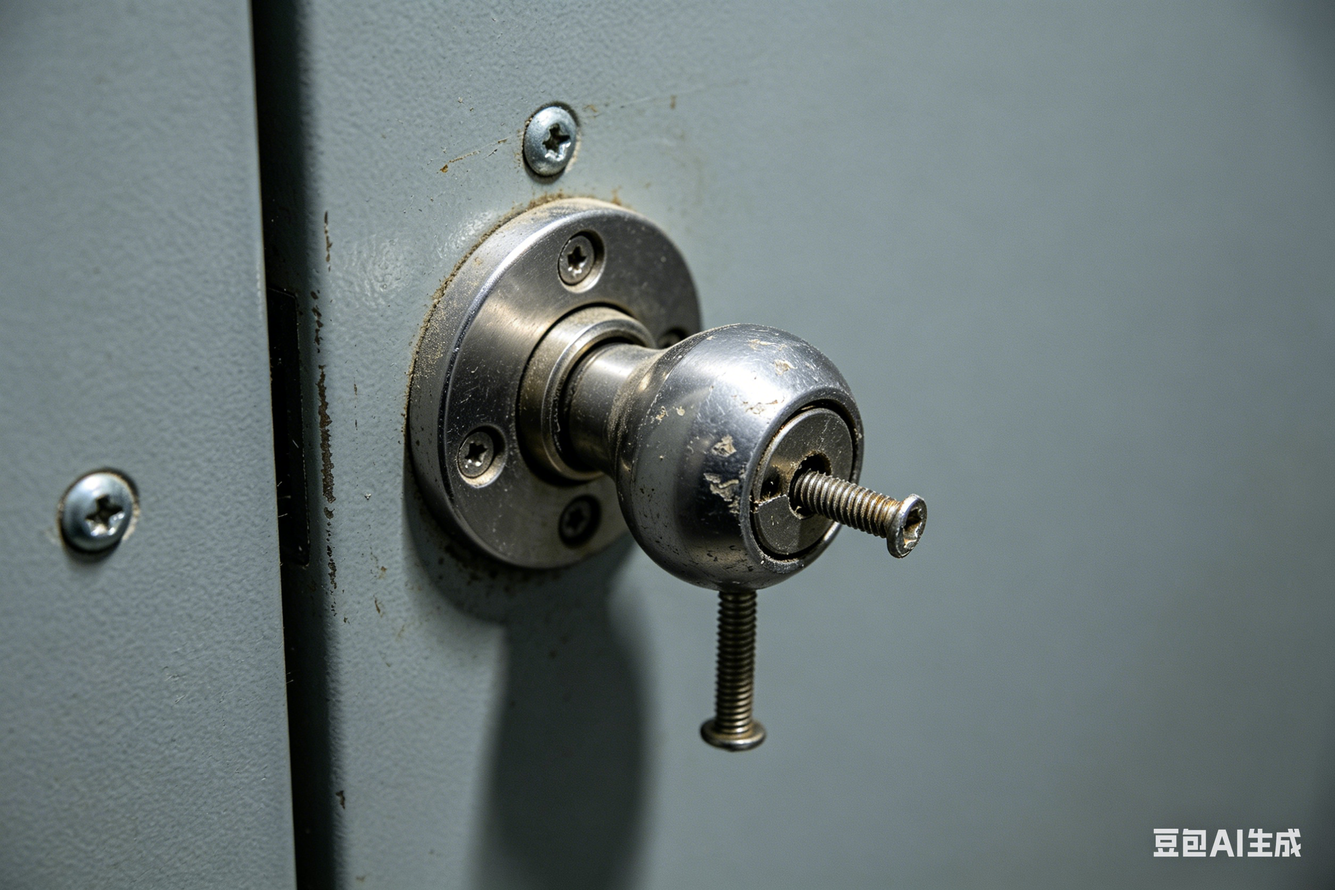BadLock: (683, 433, 822, 540)
